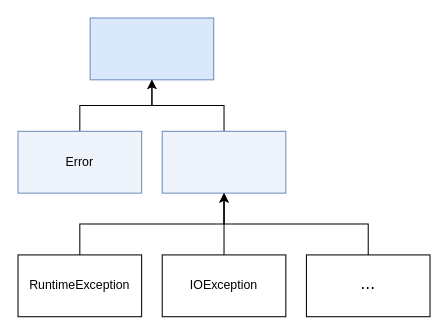
Some shapes in this 448 by 335 pixel diagram are drawn without their labels. Each missing label, with the centre of its shape:
"Exception" goes at point (223, 161).
"Throwable" goes at point (151, 48).
